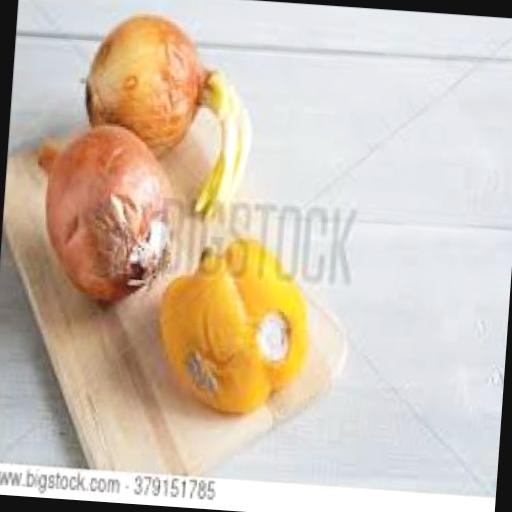biodegradable: (150, 229, 312, 415), (26, 114, 178, 303), (76, 6, 204, 158), (188, 63, 254, 216)
